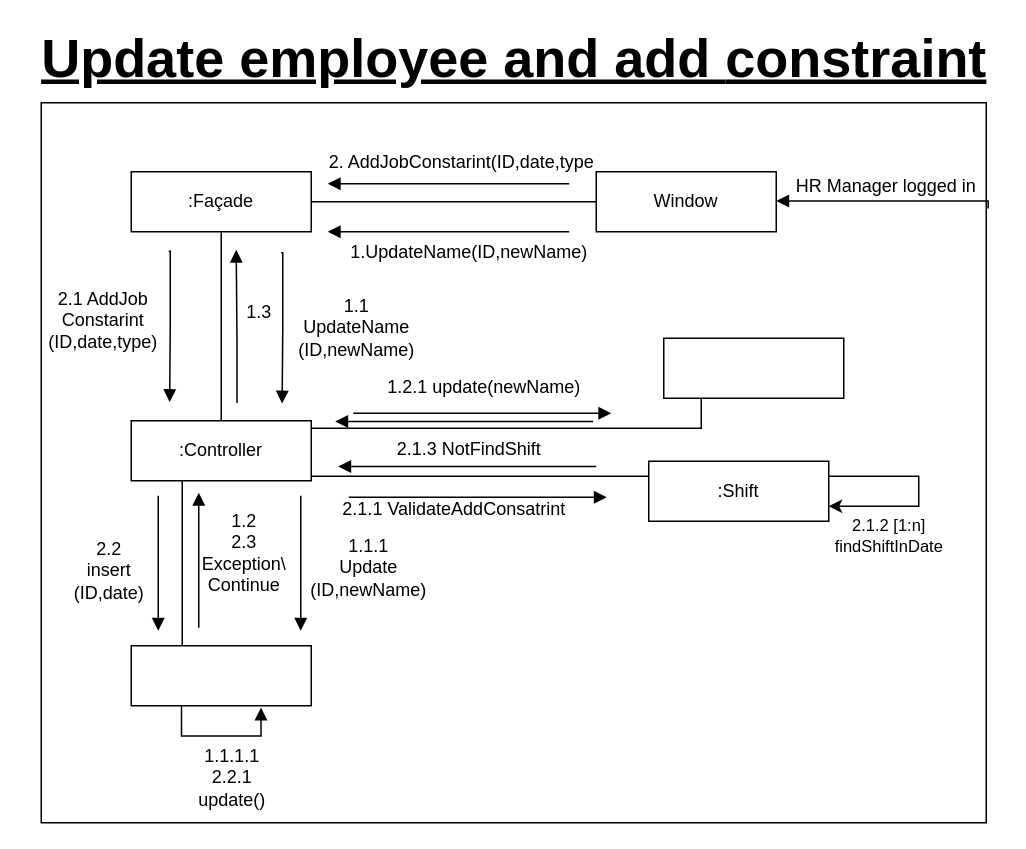
This 1026x849 diagram has some shape labels left out. Each missing label, with the centre of its shape:
:DB: the point at 220,675
:Employee: the point at 753,367
